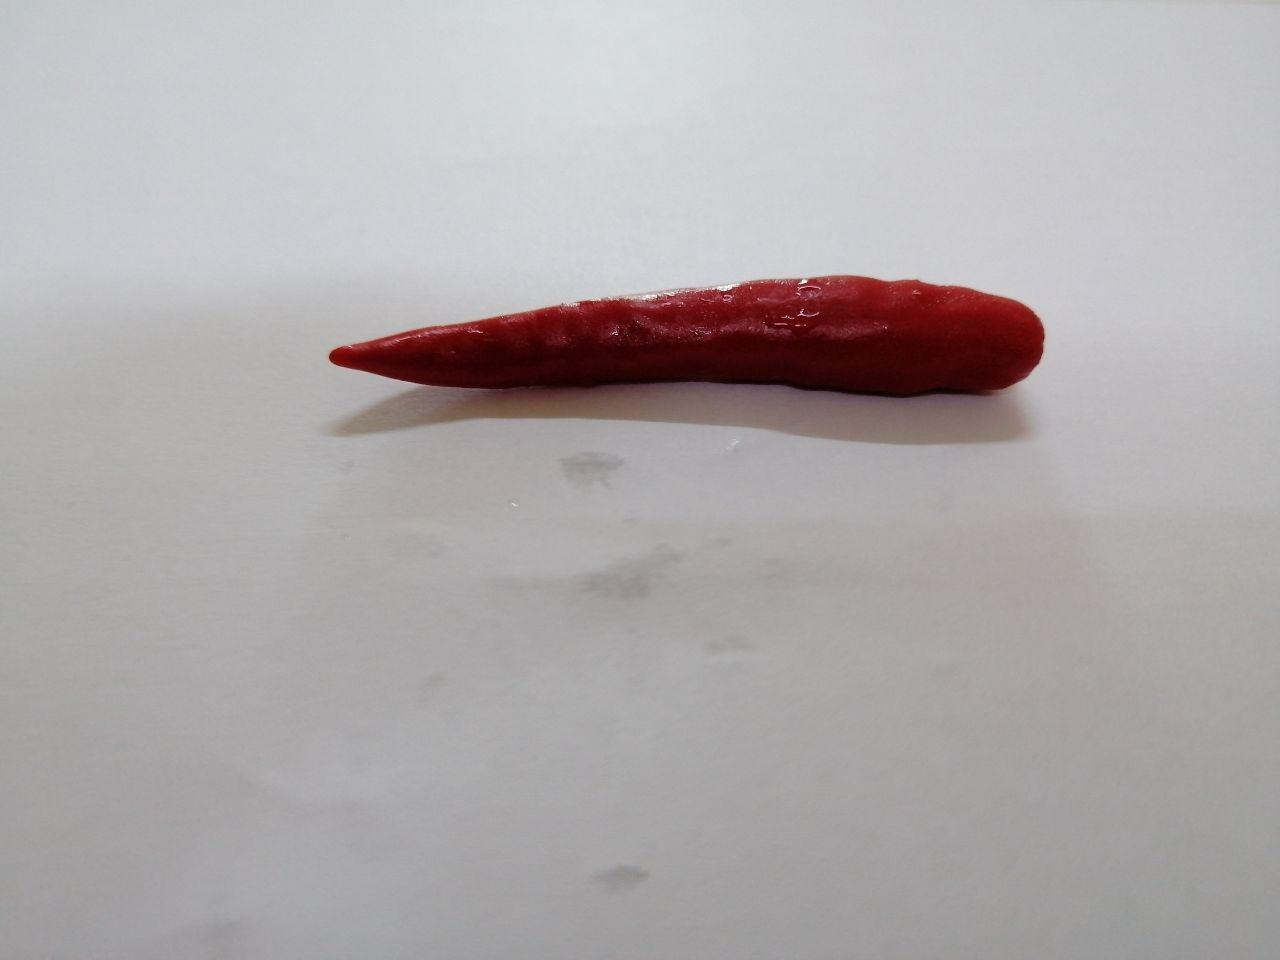lada merah: (321, 250, 1066, 467)
